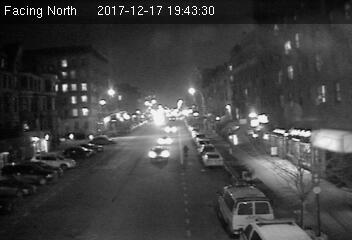car: (147, 146, 171, 164), (202, 151, 223, 166)
police: (216, 179, 279, 237)
